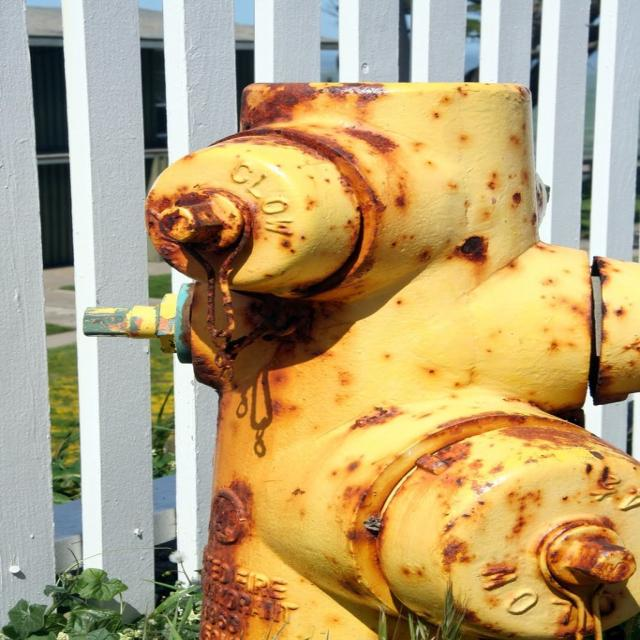fire_hydrant: (80, 81, 639, 640)
